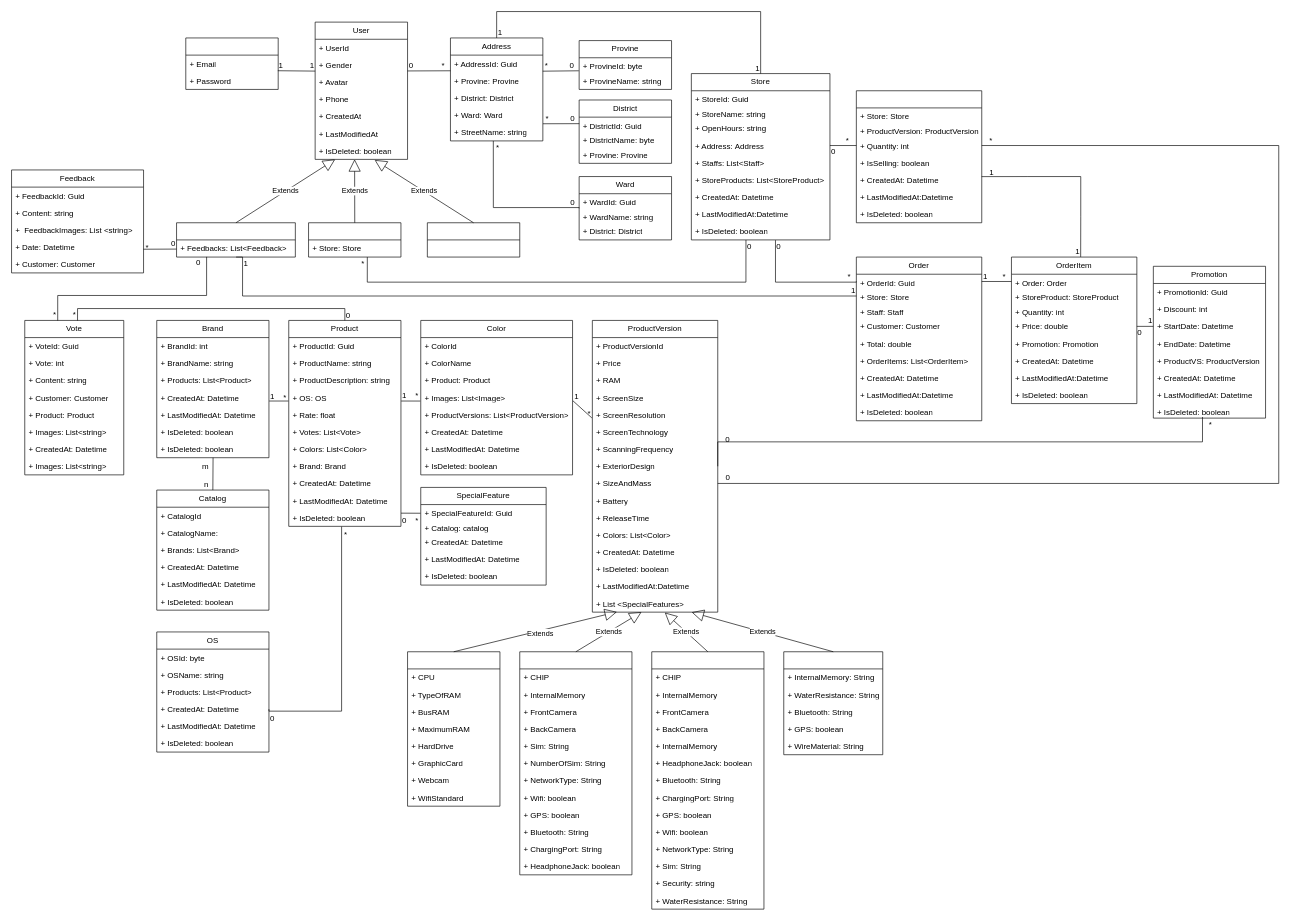
Some shapes in this 1291 by 923 pixel diagram are drawn without their labels. The shapes that lost their labels are listed below. From the top down, each one's box as (x1, y1, x2, y2) in pixels, then its label:
(185, 37, 278, 89): Account
(856, 90, 982, 223): StoreProduct
(176, 222, 295, 257): Customer
(308, 222, 401, 257): Staff
(427, 222, 520, 257): Admin
(783, 651, 883, 755): SmartWatch
(407, 651, 500, 806): Laptop
(519, 651, 632, 875): Tablet
(651, 651, 764, 909): Điện thoại
